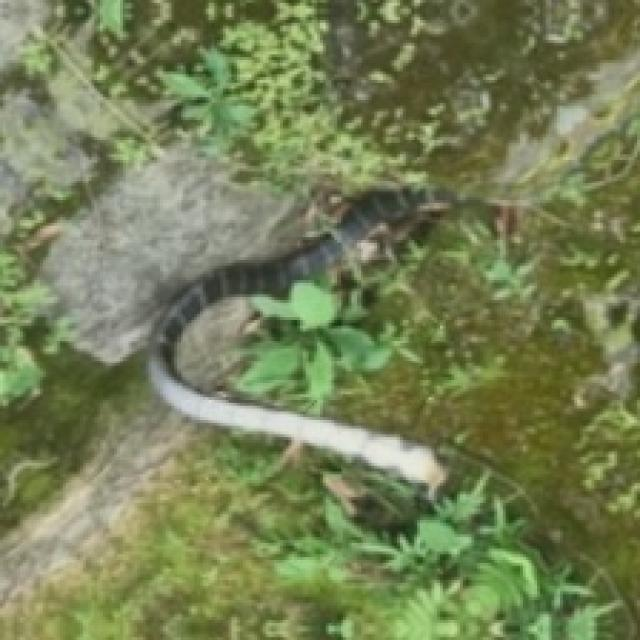king cobra: (151, 0, 637, 557), (149, 189, 449, 494)
